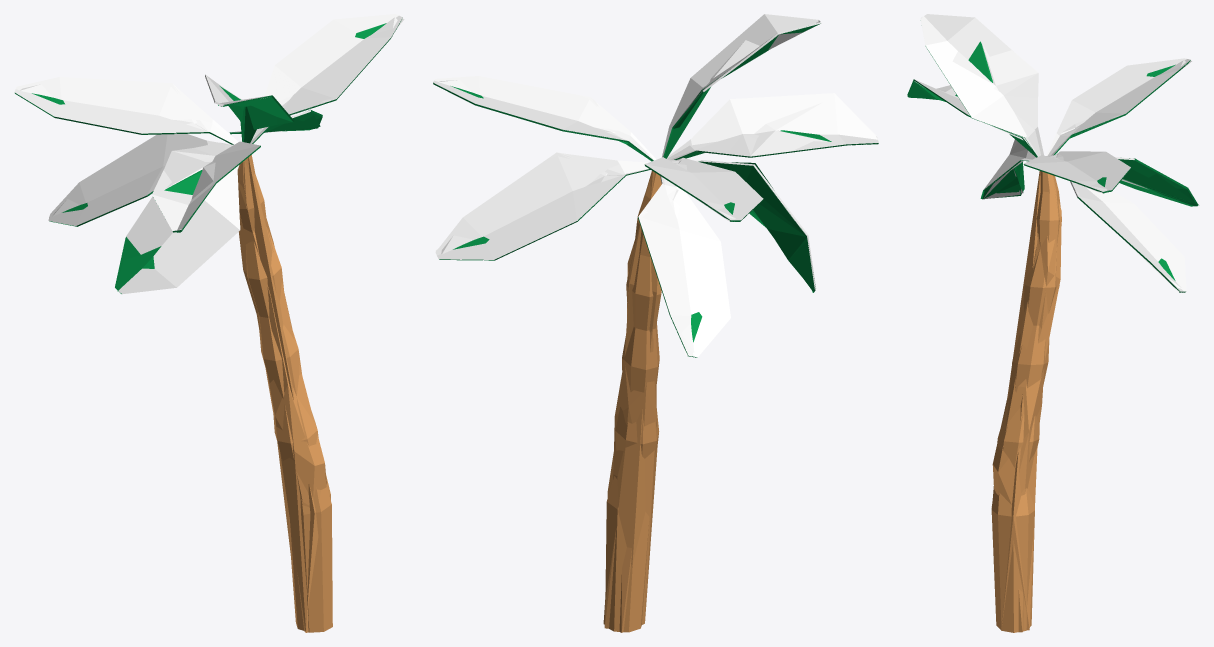
File: V4_Palm_1_Snowy.fbx
3 renders of one model, left to right at view 1: azimuth 30°, elevation 25°; view 2: azimuth 150°, elevation 25°; view 3: azimuth 270°, elevation 25°, orthographic. The views are drawn at different scales.
Visible parts, largest first — view 1: V4 Palm 1_LOD0_Snowy, V4 Palm 1_LOD2_Snowy, V4 Palm 1_LOD3_Snowy, V4 Palm 1_LOD1_Snowy; view 2: V4 Palm 1_LOD0_Snowy, V4 Palm 1_LOD3_Snowy, V4 Palm 1_LOD2_Snowy, V4 Palm 1_LOD1_Snowy; view 3: V4 Palm 1_LOD0_Snowy, V4 Palm 1_LOD3_Snowy, V4 Palm 1_LOD2_Snowy, V4 Palm 1_LOD1_Snowy.
Boxes of the visible parts, left/top/right/bottom form: V4 Palm 1_LOD0_Snowy: left=14, top=14, right=402, bottom=632; V4 Palm 1_LOD2_Snowy: left=20, top=17, right=397, bottom=632; V4 Palm 1_LOD3_Snowy: left=32, top=18, right=404, bottom=632; V4 Palm 1_LOD1_Snowy: left=121, top=30, right=395, bottom=625; V4 Palm 1_LOD0_Snowy: left=433, top=14, right=878, bottom=632; V4 Palm 1_LOD3_Snowy: left=435, top=27, right=831, bottom=628; V4 Palm 1_LOD2_Snowy: left=438, top=39, right=805, bottom=632; V4 Palm 1_LOD1_Snowy: left=460, top=14, right=877, bottom=631; V4 Palm 1_LOD0_Snowy: left=907, top=14, right=1197, bottom=632; V4 Palm 1_LOD3_Snowy: left=914, top=41, right=1198, bottom=630; V4 Palm 1_LOD2_Snowy: left=912, top=60, right=1191, bottom=632; V4 Palm 1_LOD1_Snowy: left=907, top=17, right=1197, bottom=632.
Bounding box in the file's own units: 382 × 633 × 305.
